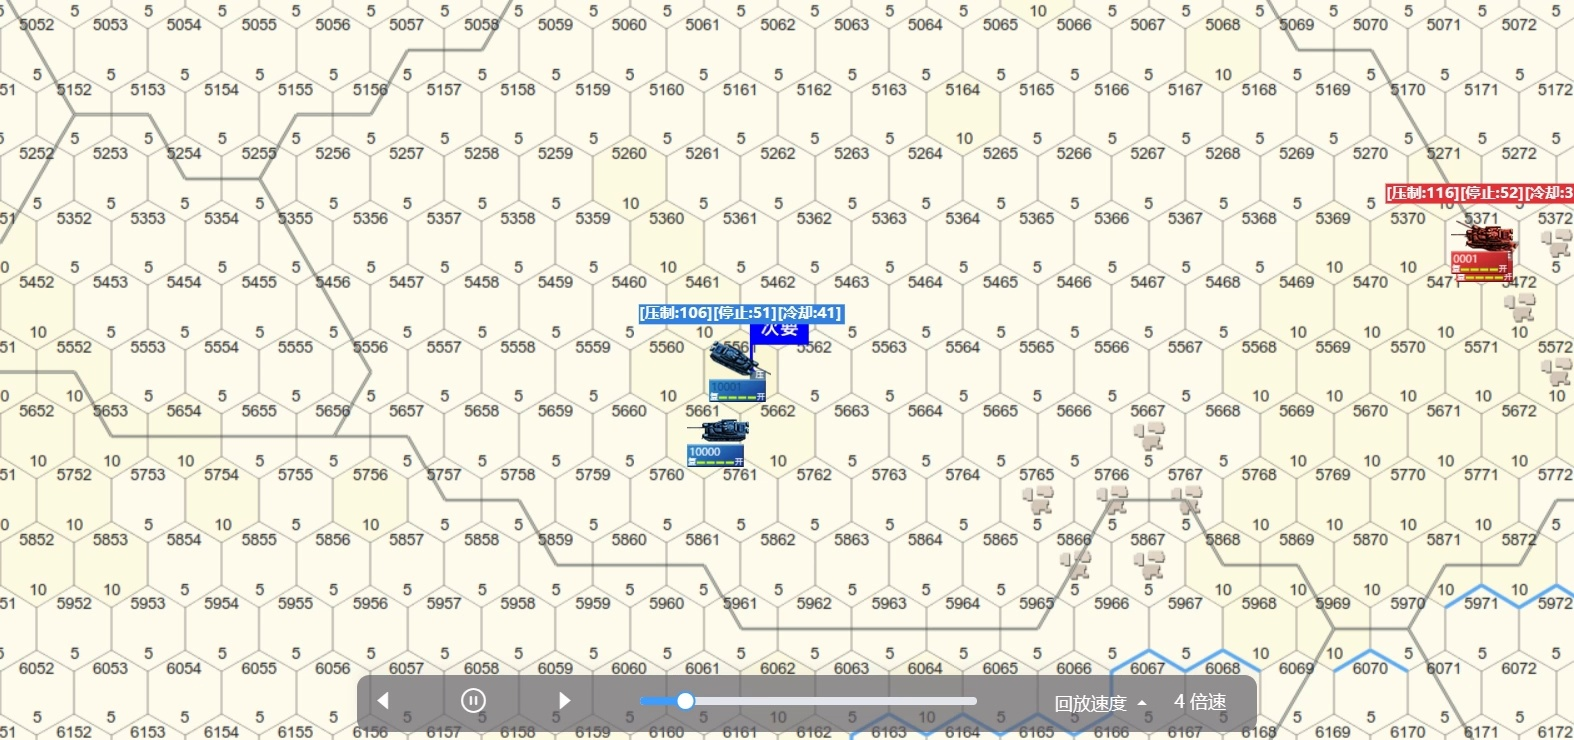blue_tank: (706, 339, 782, 415), (694, 412, 762, 480)
red_tank: (1453, 218, 1521, 286)
